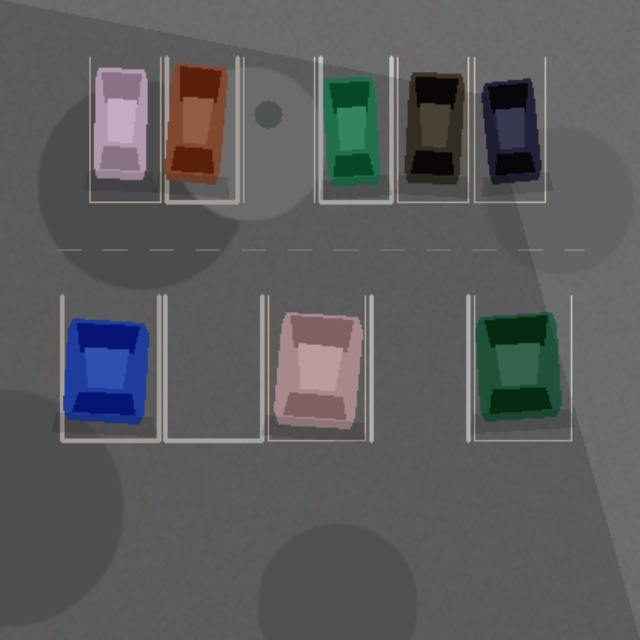space-empty: (165, 295, 262, 440), (371, 295, 468, 440), (243, 57, 314, 202)
space-occupied: (268, 295, 365, 440), (474, 295, 571, 440), (62, 295, 158, 440), (89, 57, 160, 202), (166, 57, 237, 202), (320, 57, 391, 202), (397, 57, 468, 202), (474, 57, 545, 202)
